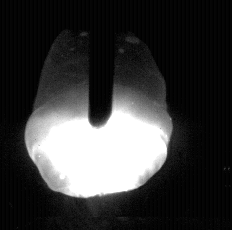arame: (89, 0, 114, 129)
poca: (23, 0, 172, 230)
